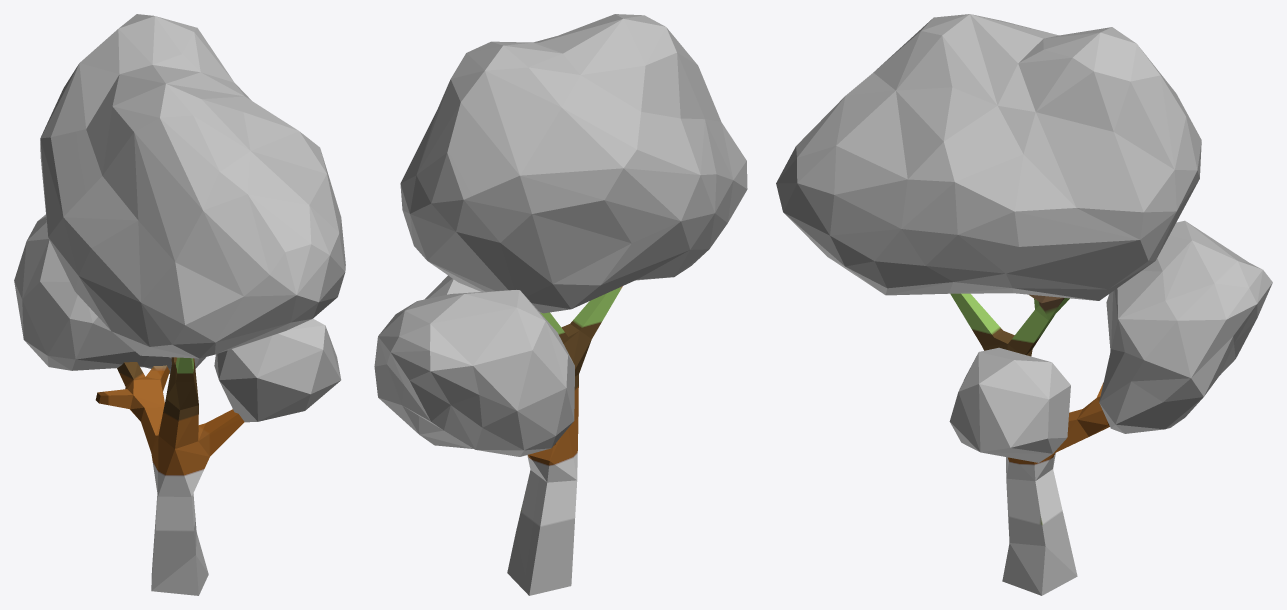
The model's file is Tree_10.fbx.
The picture shows the model from 3 angles, left to right: view 1: azimuth 30°, elevation 25°; view 2: azimuth 150°, elevation 25°; view 3: azimuth 270°, elevation 25°; orthographic projection. The views are drawn at different scales.
Visible parts, largest first — view 1: Tree_10; view 2: Tree_10; view 3: Tree_10.
Part boxes in pixels (x1,y1,x2,y2): Tree_10: (14, 14, 345, 595); Tree_10: (374, 14, 747, 595); Tree_10: (776, 14, 1272, 595).
Size of the model in its own units: 6.73 by 12.47 by 10.19.
